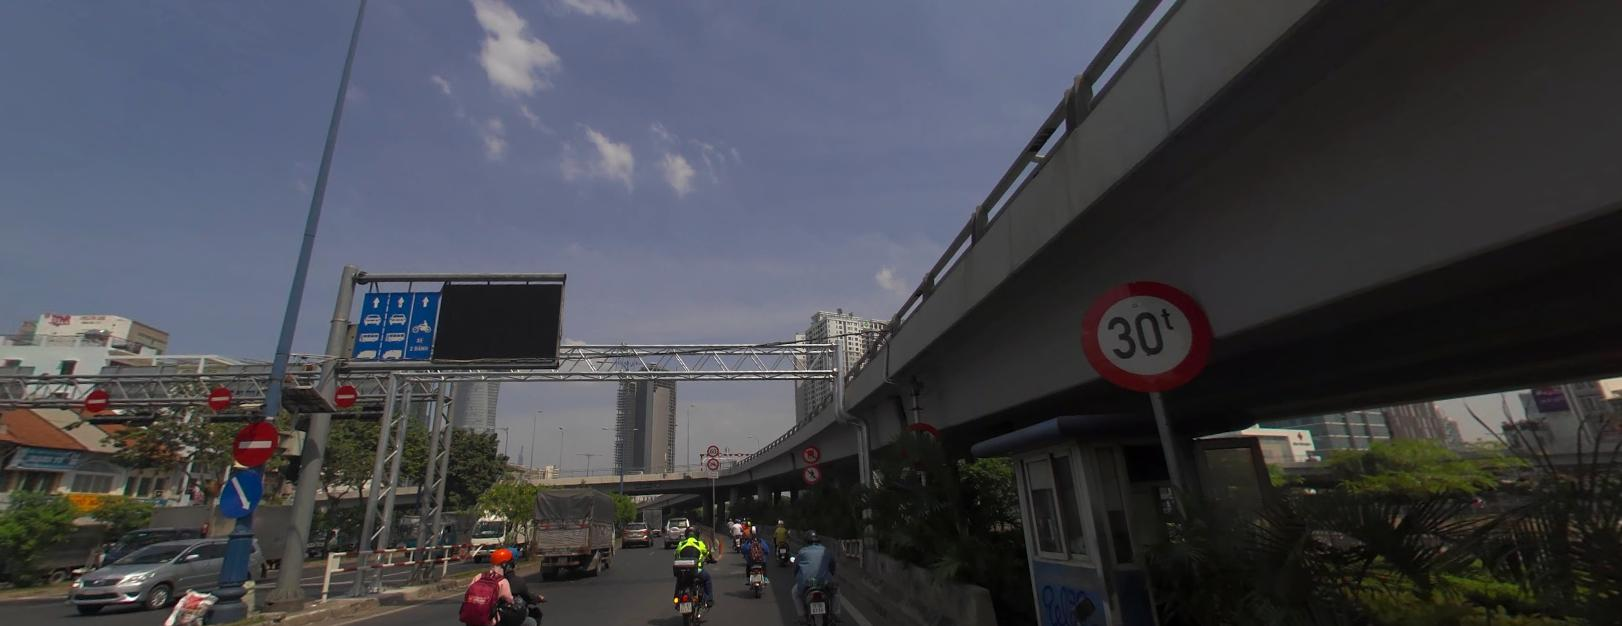Cam con lai: (1078, 278, 1213, 388), (1081, 279, 1210, 392), (803, 464, 821, 482), (803, 465, 820, 482), (802, 445, 819, 462), (802, 445, 818, 462), (707, 457, 718, 468)
Cam nguoc chieu: (234, 420, 277, 465), (235, 420, 276, 465), (85, 389, 107, 411), (209, 386, 230, 408), (334, 384, 356, 405), (334, 384, 355, 406), (86, 389, 107, 411)
Gioi han toc do: (706, 444, 718, 455), (707, 444, 718, 455)
Hieu lenh: (220, 471, 265, 517), (219, 469, 262, 516)
